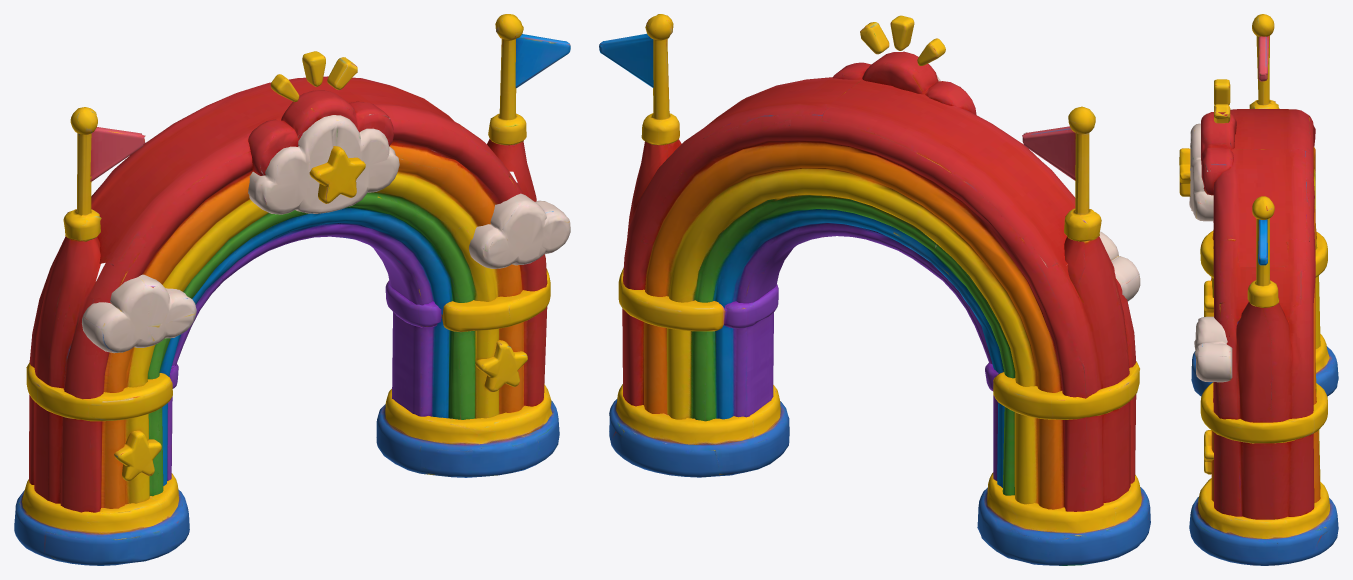
The model's file is rainbow_gate.glb.
3 views of the same model, side by side, from view 1: azimuth 30°, elevation 25°; view 2: azimuth 150°, elevation 25°; view 3: azimuth 270°, elevation 25° (orthographic). The views are drawn at different scales.
Size of what is drawn, in the model's own units: 1.26 by 1 by 0.3796.
1 material, 1 textured.
